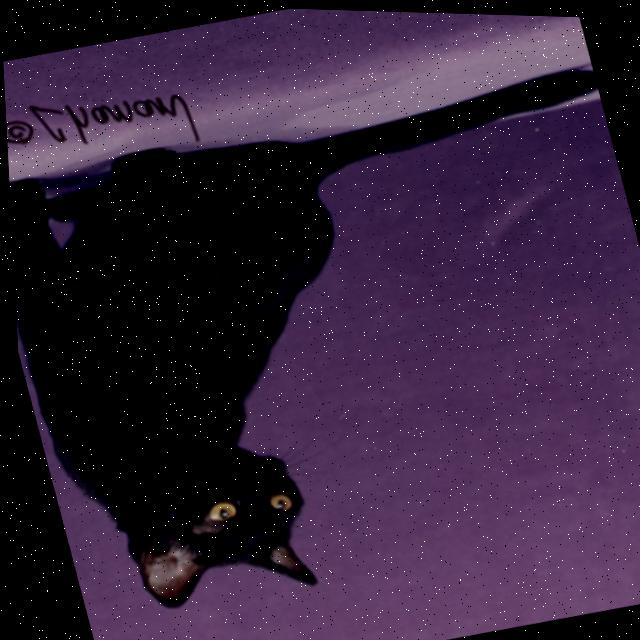Bombay: (2, 44, 640, 640)
